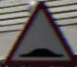Speed Breaker ahead: (6, 5, 73, 63)
